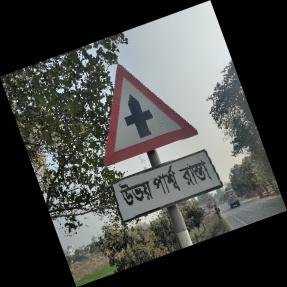Crossroad: (103, 64, 226, 226)
